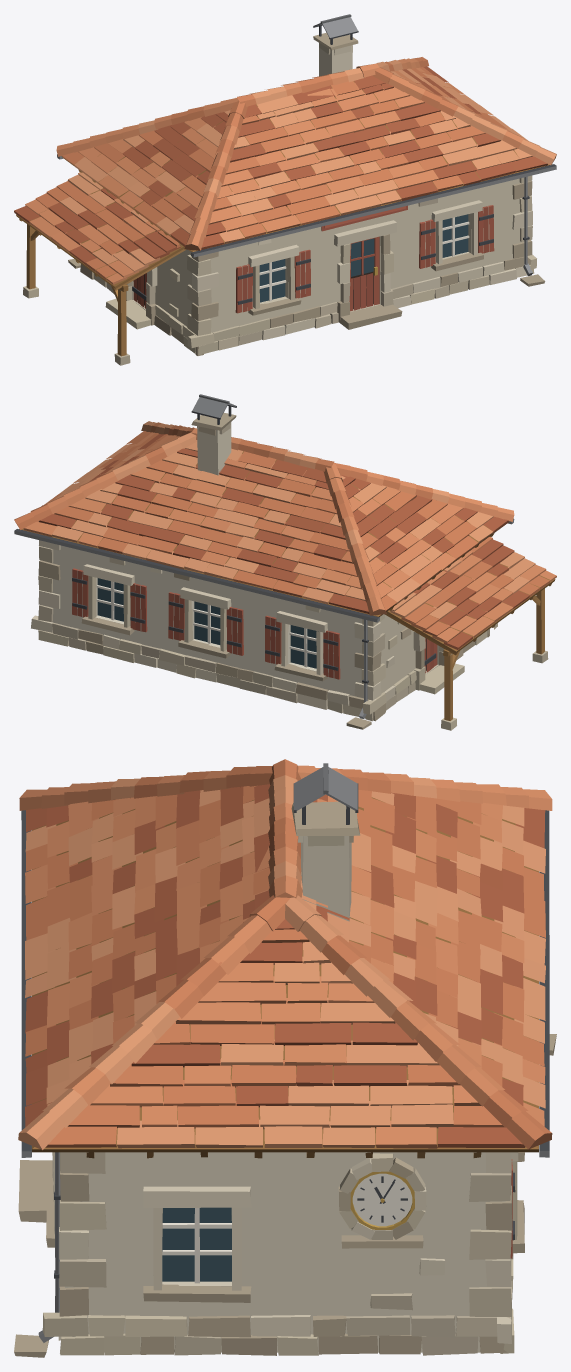
Rendered from halte.glb.
3 renders of one model, top to bottom at view 1: azimuth 30°, elevation 25°; view 2: azimuth 150°, elevation 25°; view 3: azimuth 270°, elevation 25°, orthographic. The views are drawn at different scales.
Parts seen in each view (by area): view 1: halte; view 2: halte; view 3: halte.
Boxes of the visible parts, <box> form: halte: <box>14,14,556,365</box>; halte: <box>14,394,556,730</box>; halte: <box>14,759,556,1357</box>.
Bounding box in the file's own units: 13.02 × 6.89 × 7.39.
